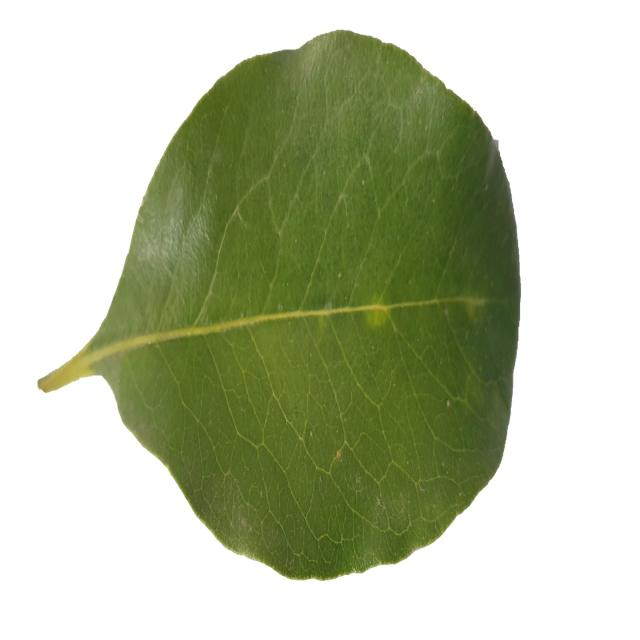Medicinal-Sandalwood: (34, 27, 521, 576)
